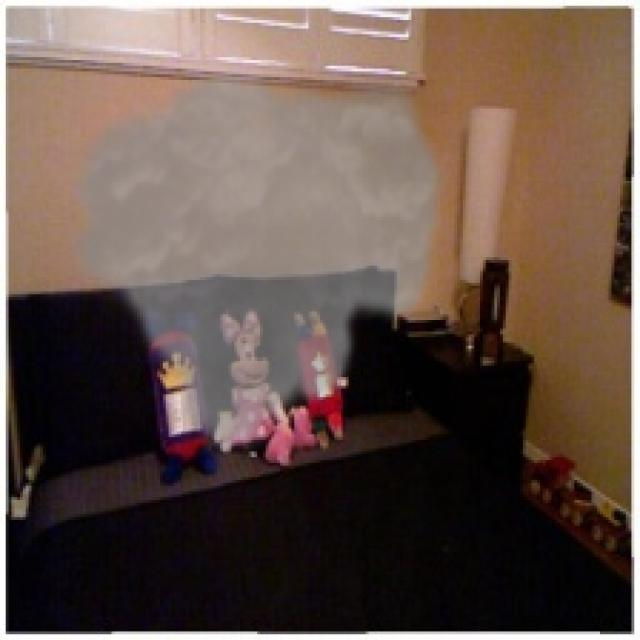Smoke: (59, 66, 452, 460)
